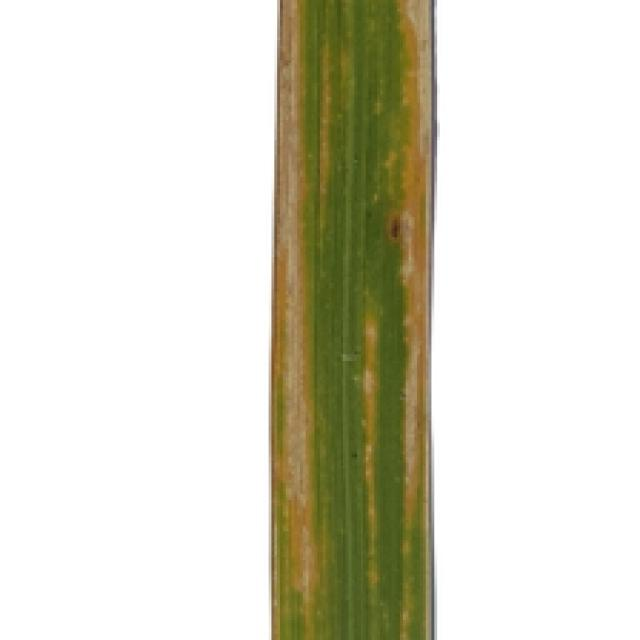Rice___Bacterial_Leaf_Blight: (267, 0, 440, 637)
